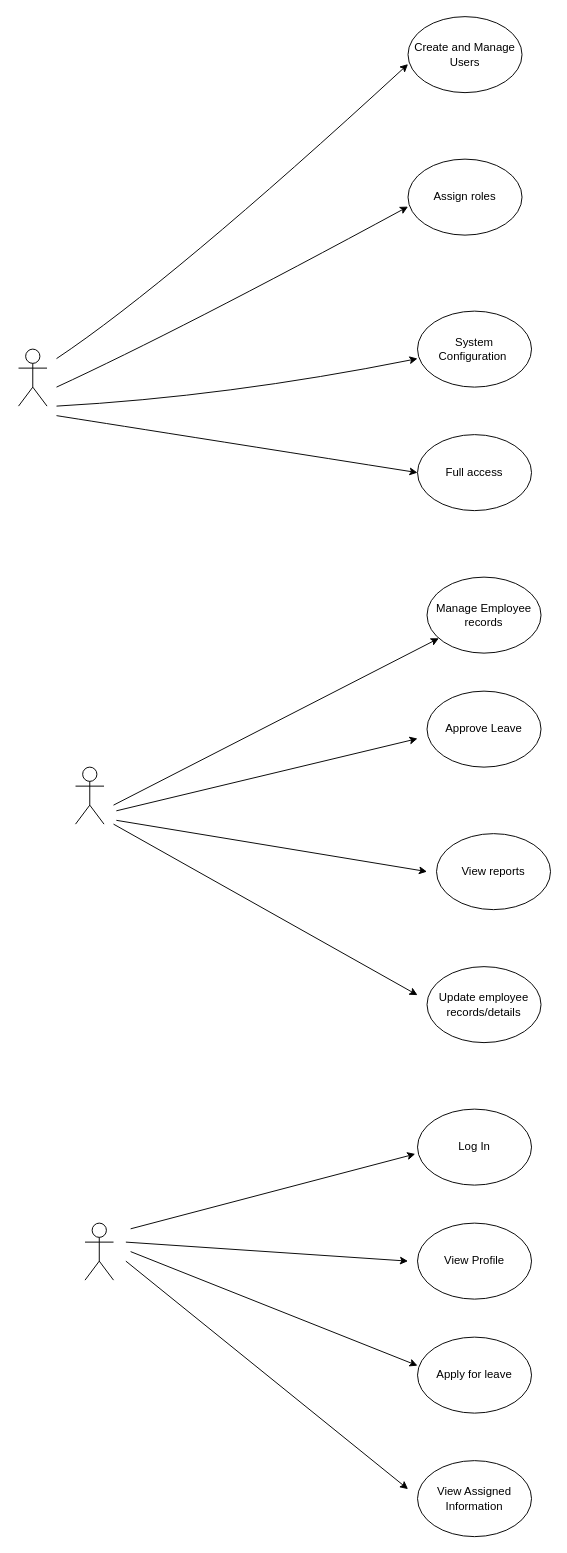
Image size: 567x1553. Some labels were removed from this diagram. The centre of each missing label's shape, as x and y in pixels:
"Admin" belongs at [32,377].
"Employee" belongs at [99,1251].
"HR" belongs at [89,795].
